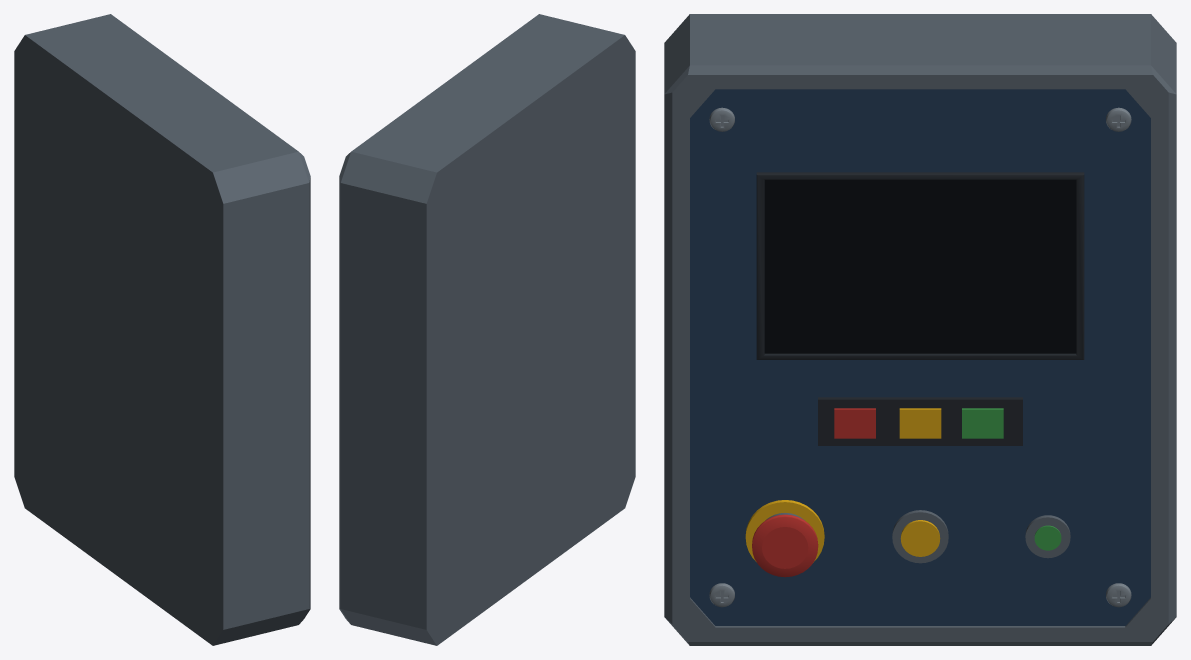
Rendered from wall_control_panel.fbx.
3 renders of one model, left to right at view 1: azimuth 30°, elevation 25°; view 2: azimuth 150°, elevation 25°; view 3: azimuth 270°, elevation 25°, orthographic. The views are drawn at different scales.
Parts seen in each view (by area): view 1: Cube; view 2: Cube; view 3: Cube.001, Cube, Cube.002, Cube.003, Cylinder.001, Cylinder, Cylinder.003, Cylinder.002, Cube.004, Cube.005, Cube.006.
Boxes of the visible parts, x1=… form: Cube: x1=14, y1=14, x2=310, y2=645; Cube: x1=339, y1=14, x2=635, y2=645; Cube.001: x1=690, y1=89, x2=1150, y2=625; Cube: x1=664, y1=14, x2=1176, y2=645; Cube.002: x1=756, y1=172, x2=1084, y2=359; Cube.003: x1=818, y1=397, x2=1022, y2=445; Cylinder.001: x1=745, y1=500, x2=824, y2=577; Cylinder: x1=892, y1=510, x2=948, y2=563; Cylinder.003: x1=709, y1=107, x2=1131, y2=607; Cylinder.002: x1=1025, y1=515, x2=1070, y2=558; Cube.004: x1=899, y1=408, x2=941, y2=438; Cube.005: x1=834, y1=408, x2=875, y2=438; Cube.006: x1=962, y1=408, x2=1003, y2=438.
Size of the model in its own units: 48.1 by 200 by 160.
